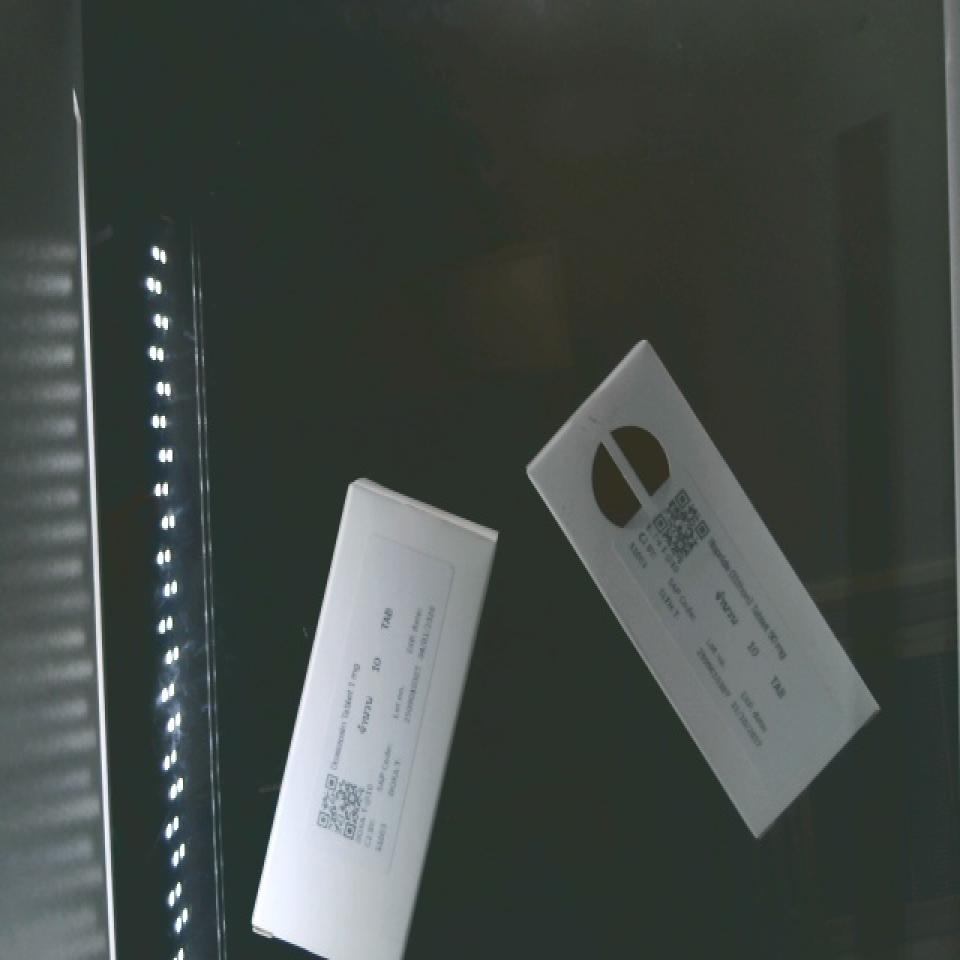medicine_box: (501, 337, 901, 835), (248, 483, 499, 960)
qr_code: (620, 463, 740, 588), (296, 760, 388, 860)
